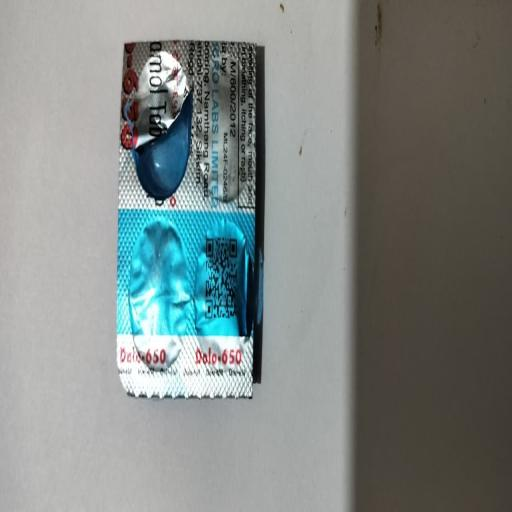dolo-650: (114, 28, 304, 475)
